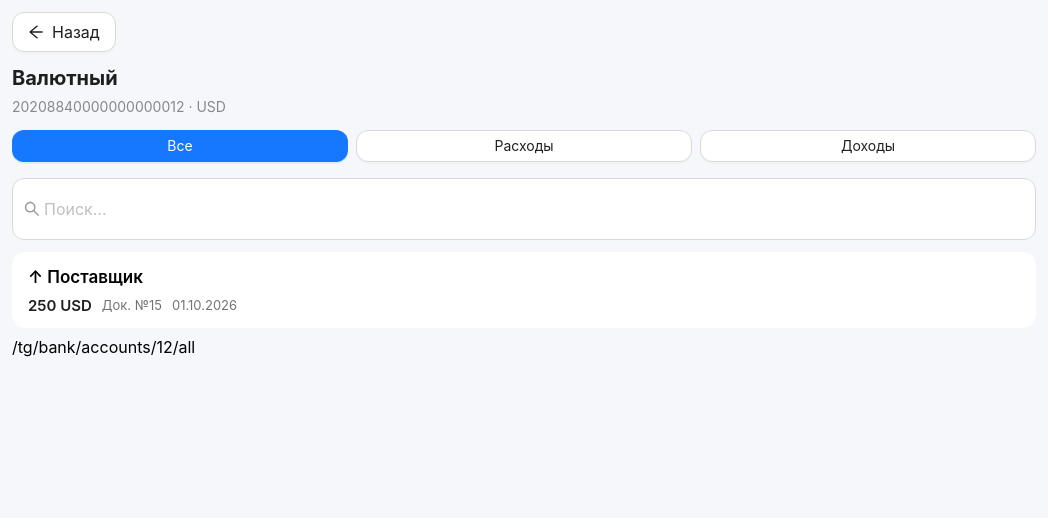
TgBankListPage › switches between «Все», «Расходы» and «Доходы» for the same account
This screenshot has width=1048, height=518.
Expected: the heading "Валютный" is shown, [12,66,118,90]
Click the button "Доходы".
click(868, 146)  # box [700,130,1036,162]
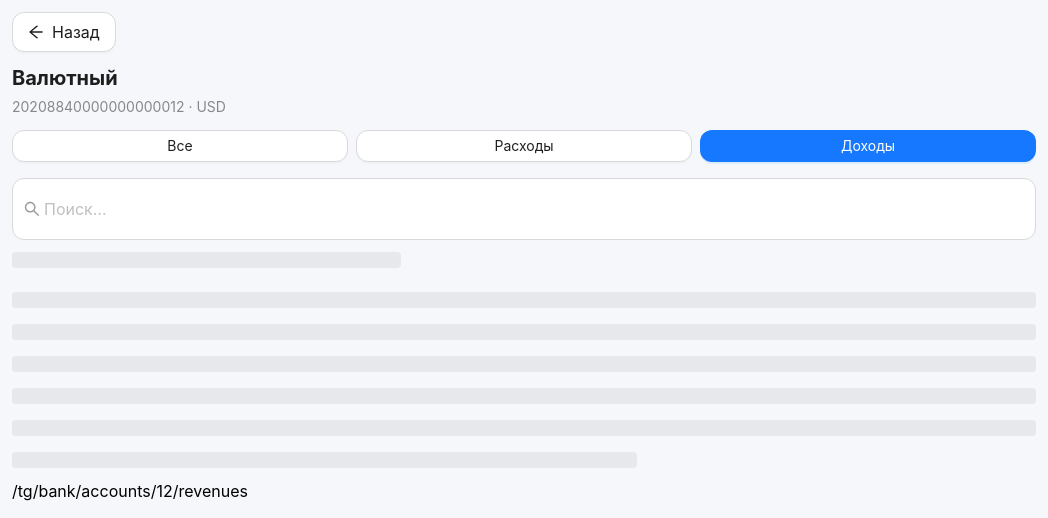
Now the text with test id "where" reads "/tg/bank/accounts/12/revenues", box [12,481,248,501]
Click the button "Расходы".
click(524, 146)  # box [356,130,692,162]
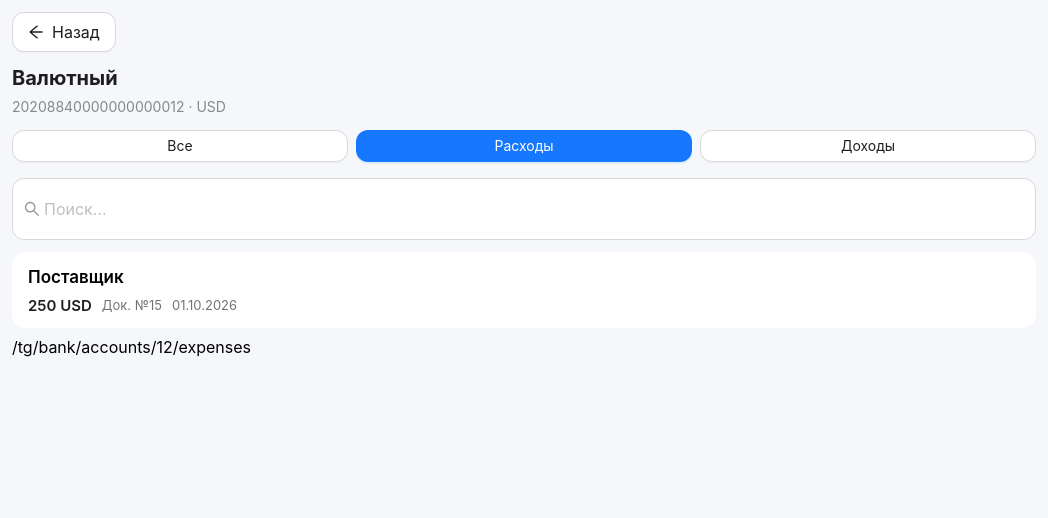
Now the text with test id "where" reads "/tg/bank/accounts/12/expenses", box [12,337,251,357]
Click the button "Все".
click(180, 146)  # box [12,130,348,162]
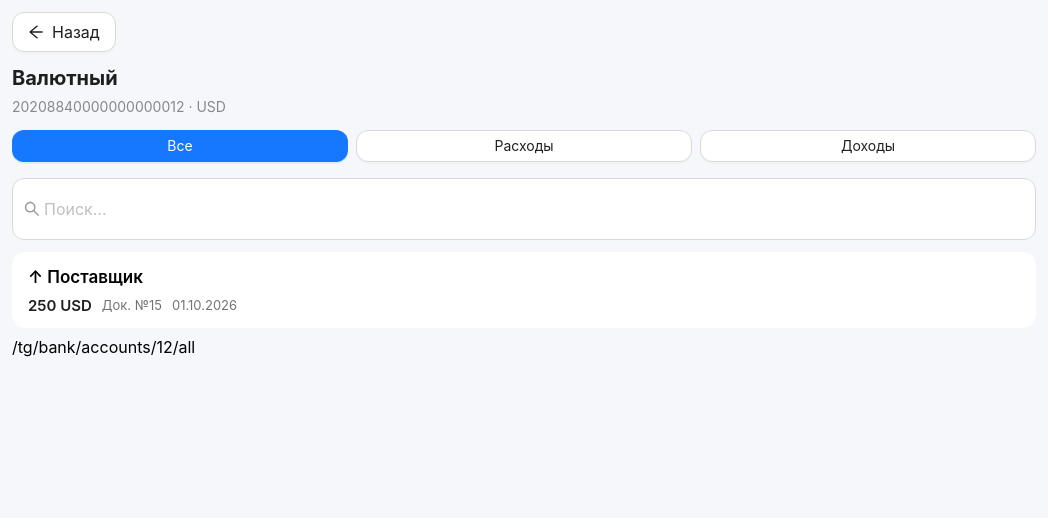
Now the text with test id "where" reads "/tg/bank/accounts/12/all", box [12,337,195,357]
